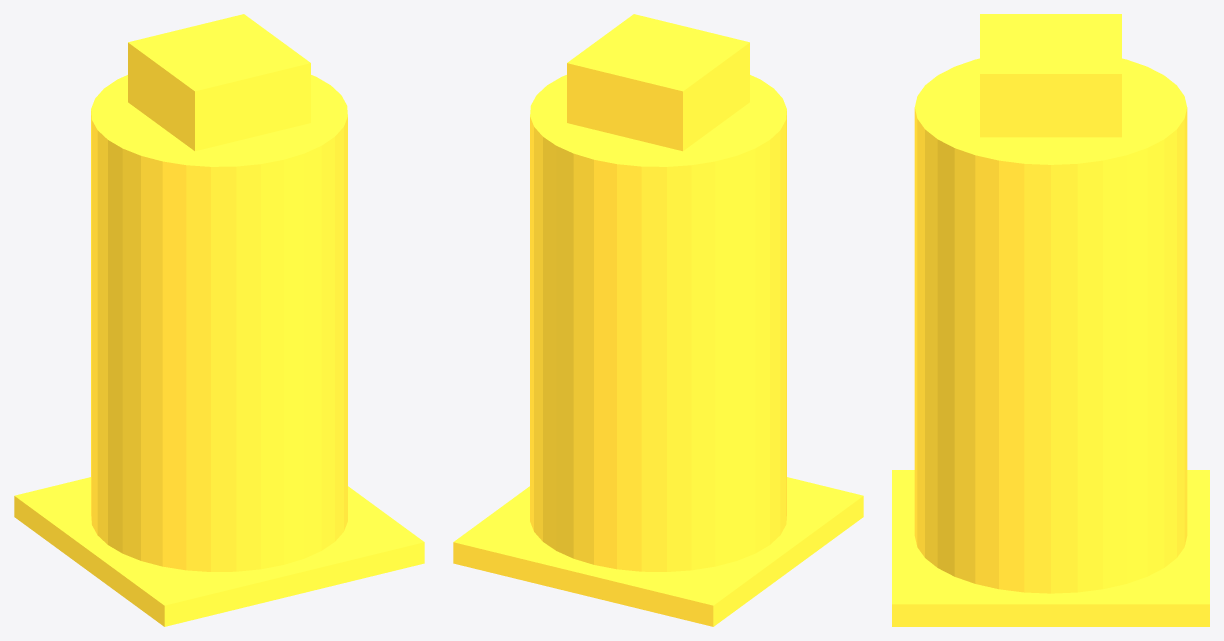
File: bottle.fbx
3 views of the same model, side by side, from view 1: azimuth 30°, elevation 25°; view 2: azimuth 150°, elevation 25°; view 3: azimuth 270°, elevation 25° (orthographic). The views are drawn at different scales.
Visible parts, largest first — view 1: Cube.001; view 2: Cube.001; view 3: Cube.001.
Part boxes in pixels (x1,y1,x2,y2): Cube.001: (14,14,424,626); Cube.001: (453,14,863,626); Cube.001: (892,14,1209,626).
Bounding box in the file's own units: 3.23 × 5.78 × 3.23.
